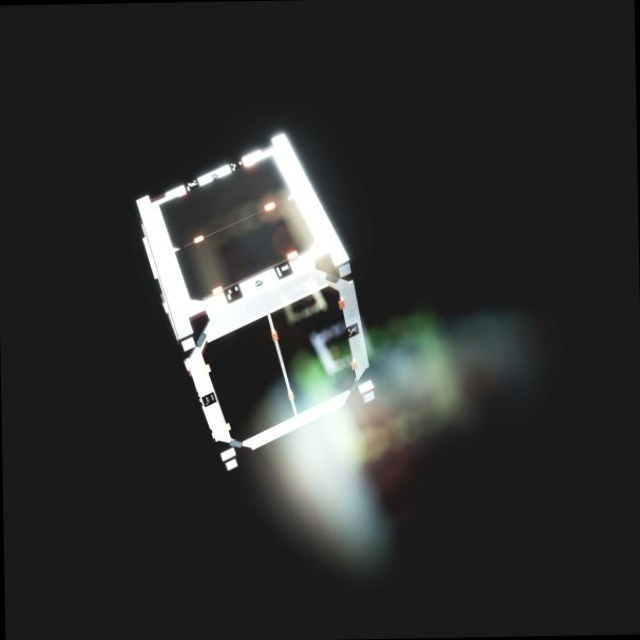satellite: (132, 121, 372, 475)
